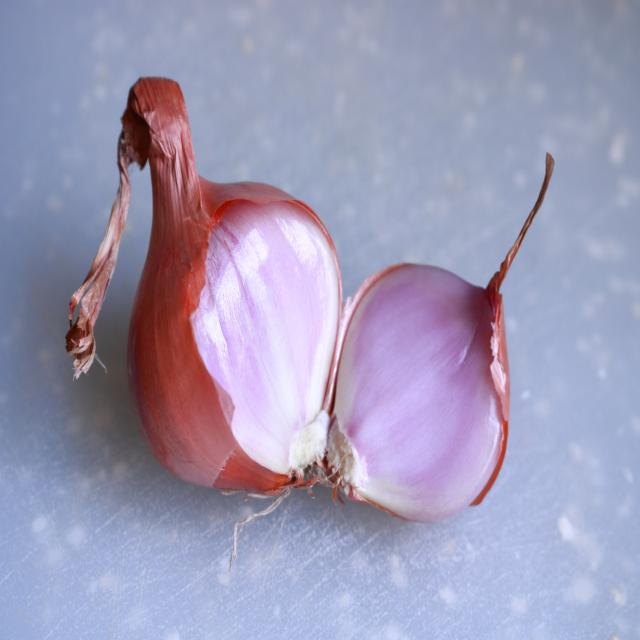onion: (67, 75, 341, 527), (334, 265, 510, 524)
